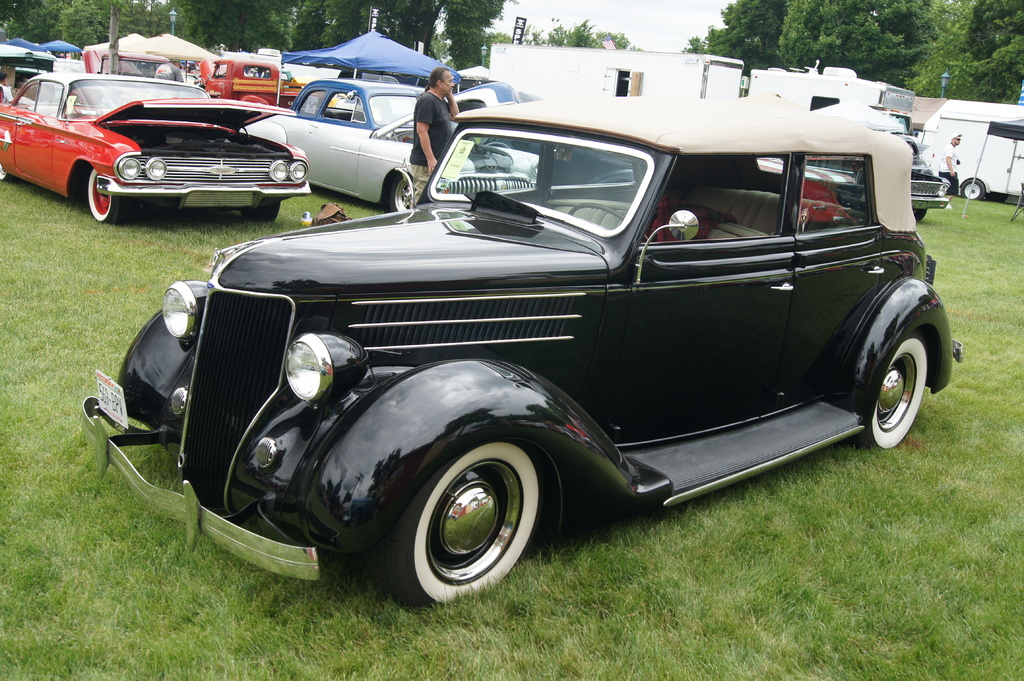mobil: (187, 106, 964, 600), (7, 69, 322, 226)
